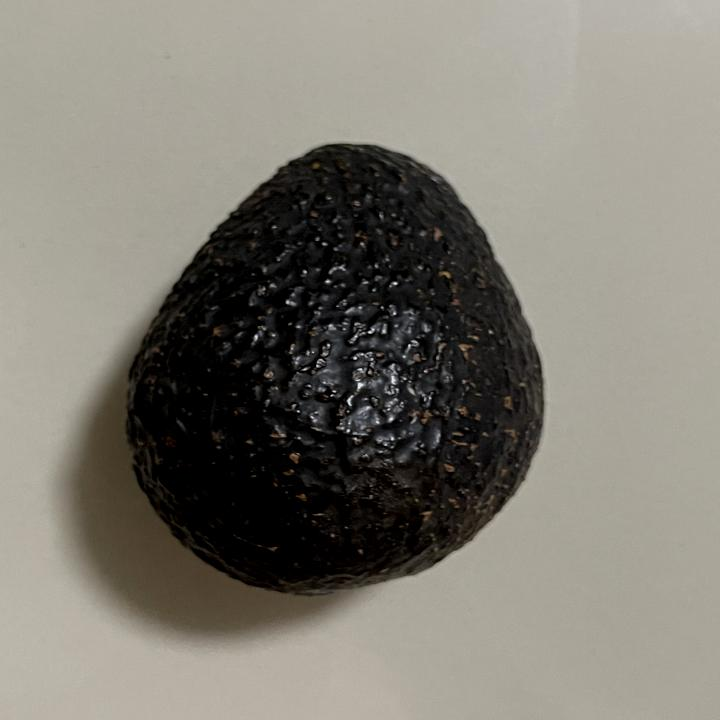Level3: (114, 134, 560, 607)
